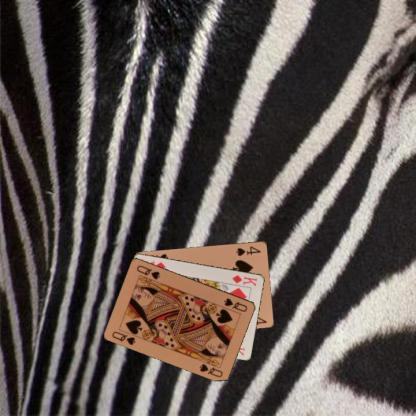4s: (233, 243, 262, 257)
Kd: (230, 272, 258, 287)
Qs: (221, 295, 249, 313), (110, 329, 137, 346)
